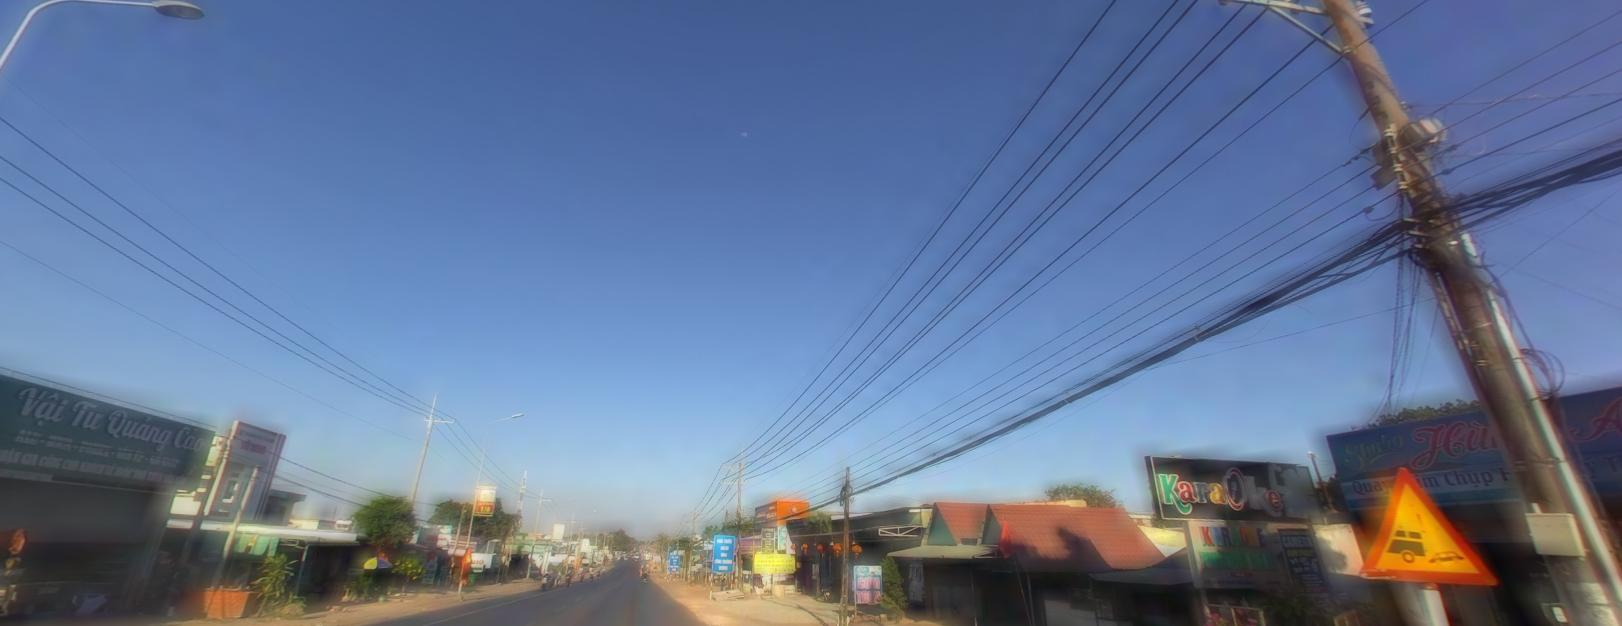Nguy hiem: (1347, 450, 1501, 600)
